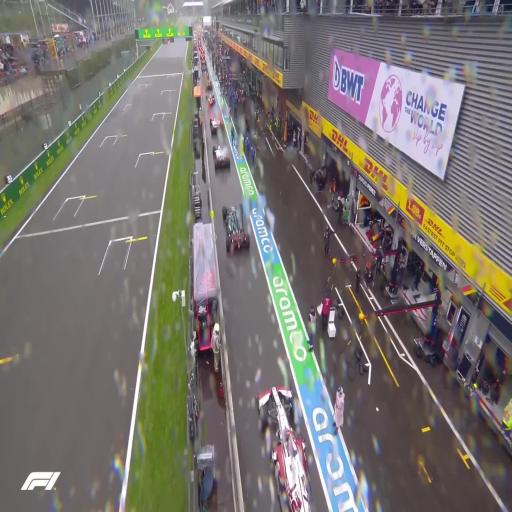f1_car: (257, 387, 311, 511), (193, 222, 217, 353), (222, 204, 250, 251), (212, 146, 230, 168), (209, 116, 221, 133), (207, 93, 215, 106)
